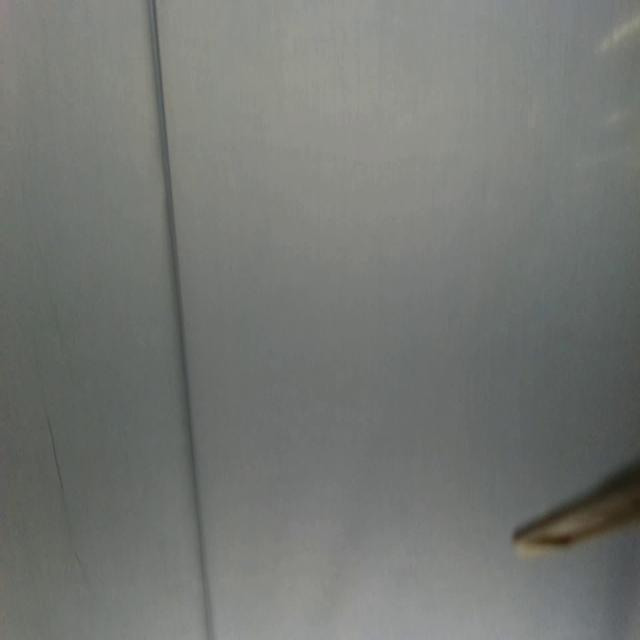crease: (145, 0, 214, 638), (47, 413, 66, 509)
